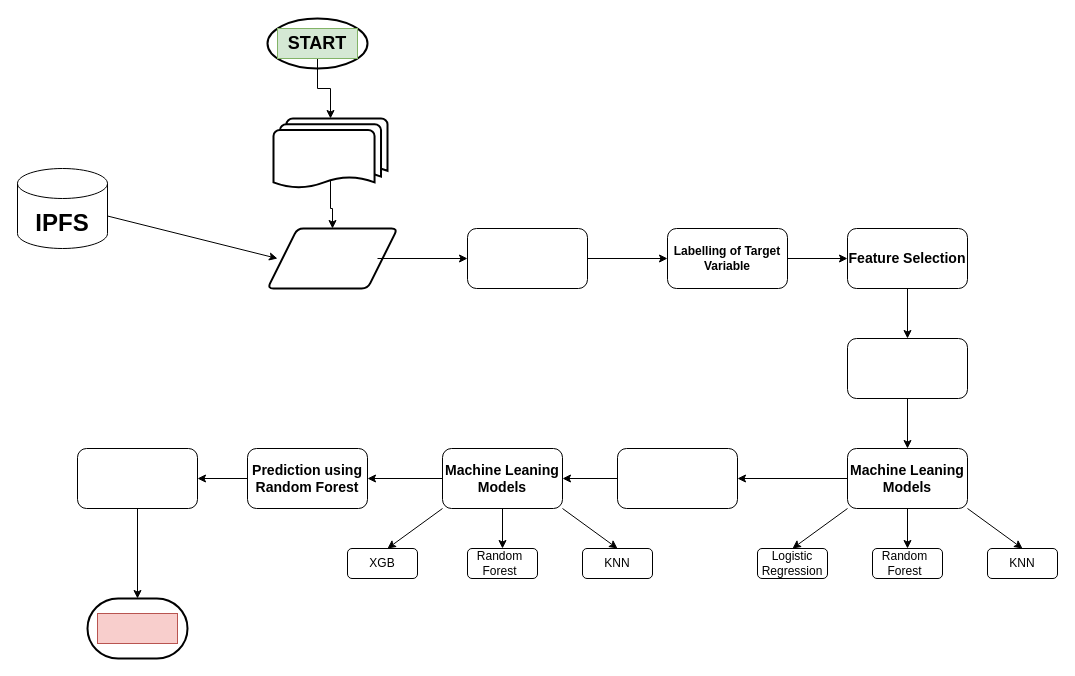
Image size: 1075x676. Some labels were removed from this diagram. Each missing label, with the centre of its shape:
"Data Cleaning" belongs at (x=527, y=258).
"Data Set" belongs at (x=332, y=258).
"Evaluation" belongs at (x=137, y=478).
"EXIT" belongs at (x=137, y=628).
"Hyperparameter Tuning and LDA" belongs at (x=677, y=478).
"Import Libraries" belongs at (x=330, y=153).
"Topic Modelling" belongs at (x=907, y=368).
